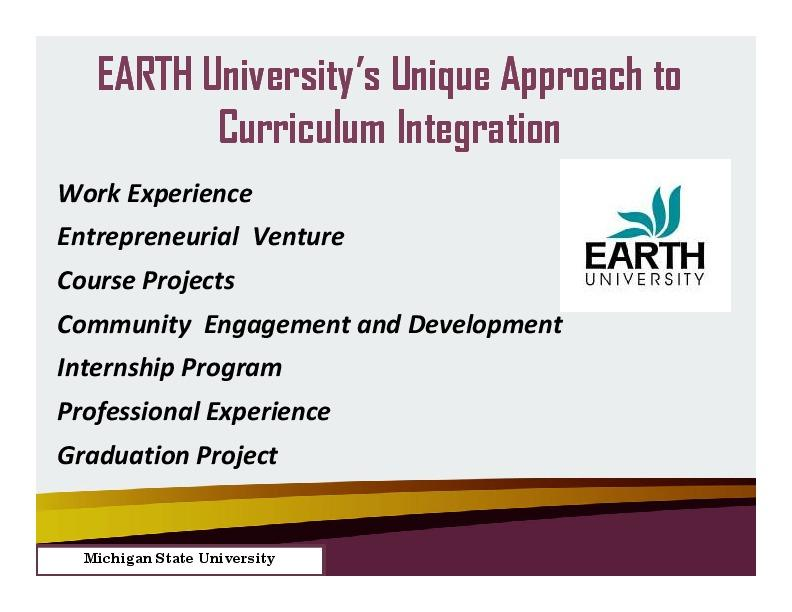paragraph: (48, 164, 747, 481)
title: (77, 42, 709, 149)
